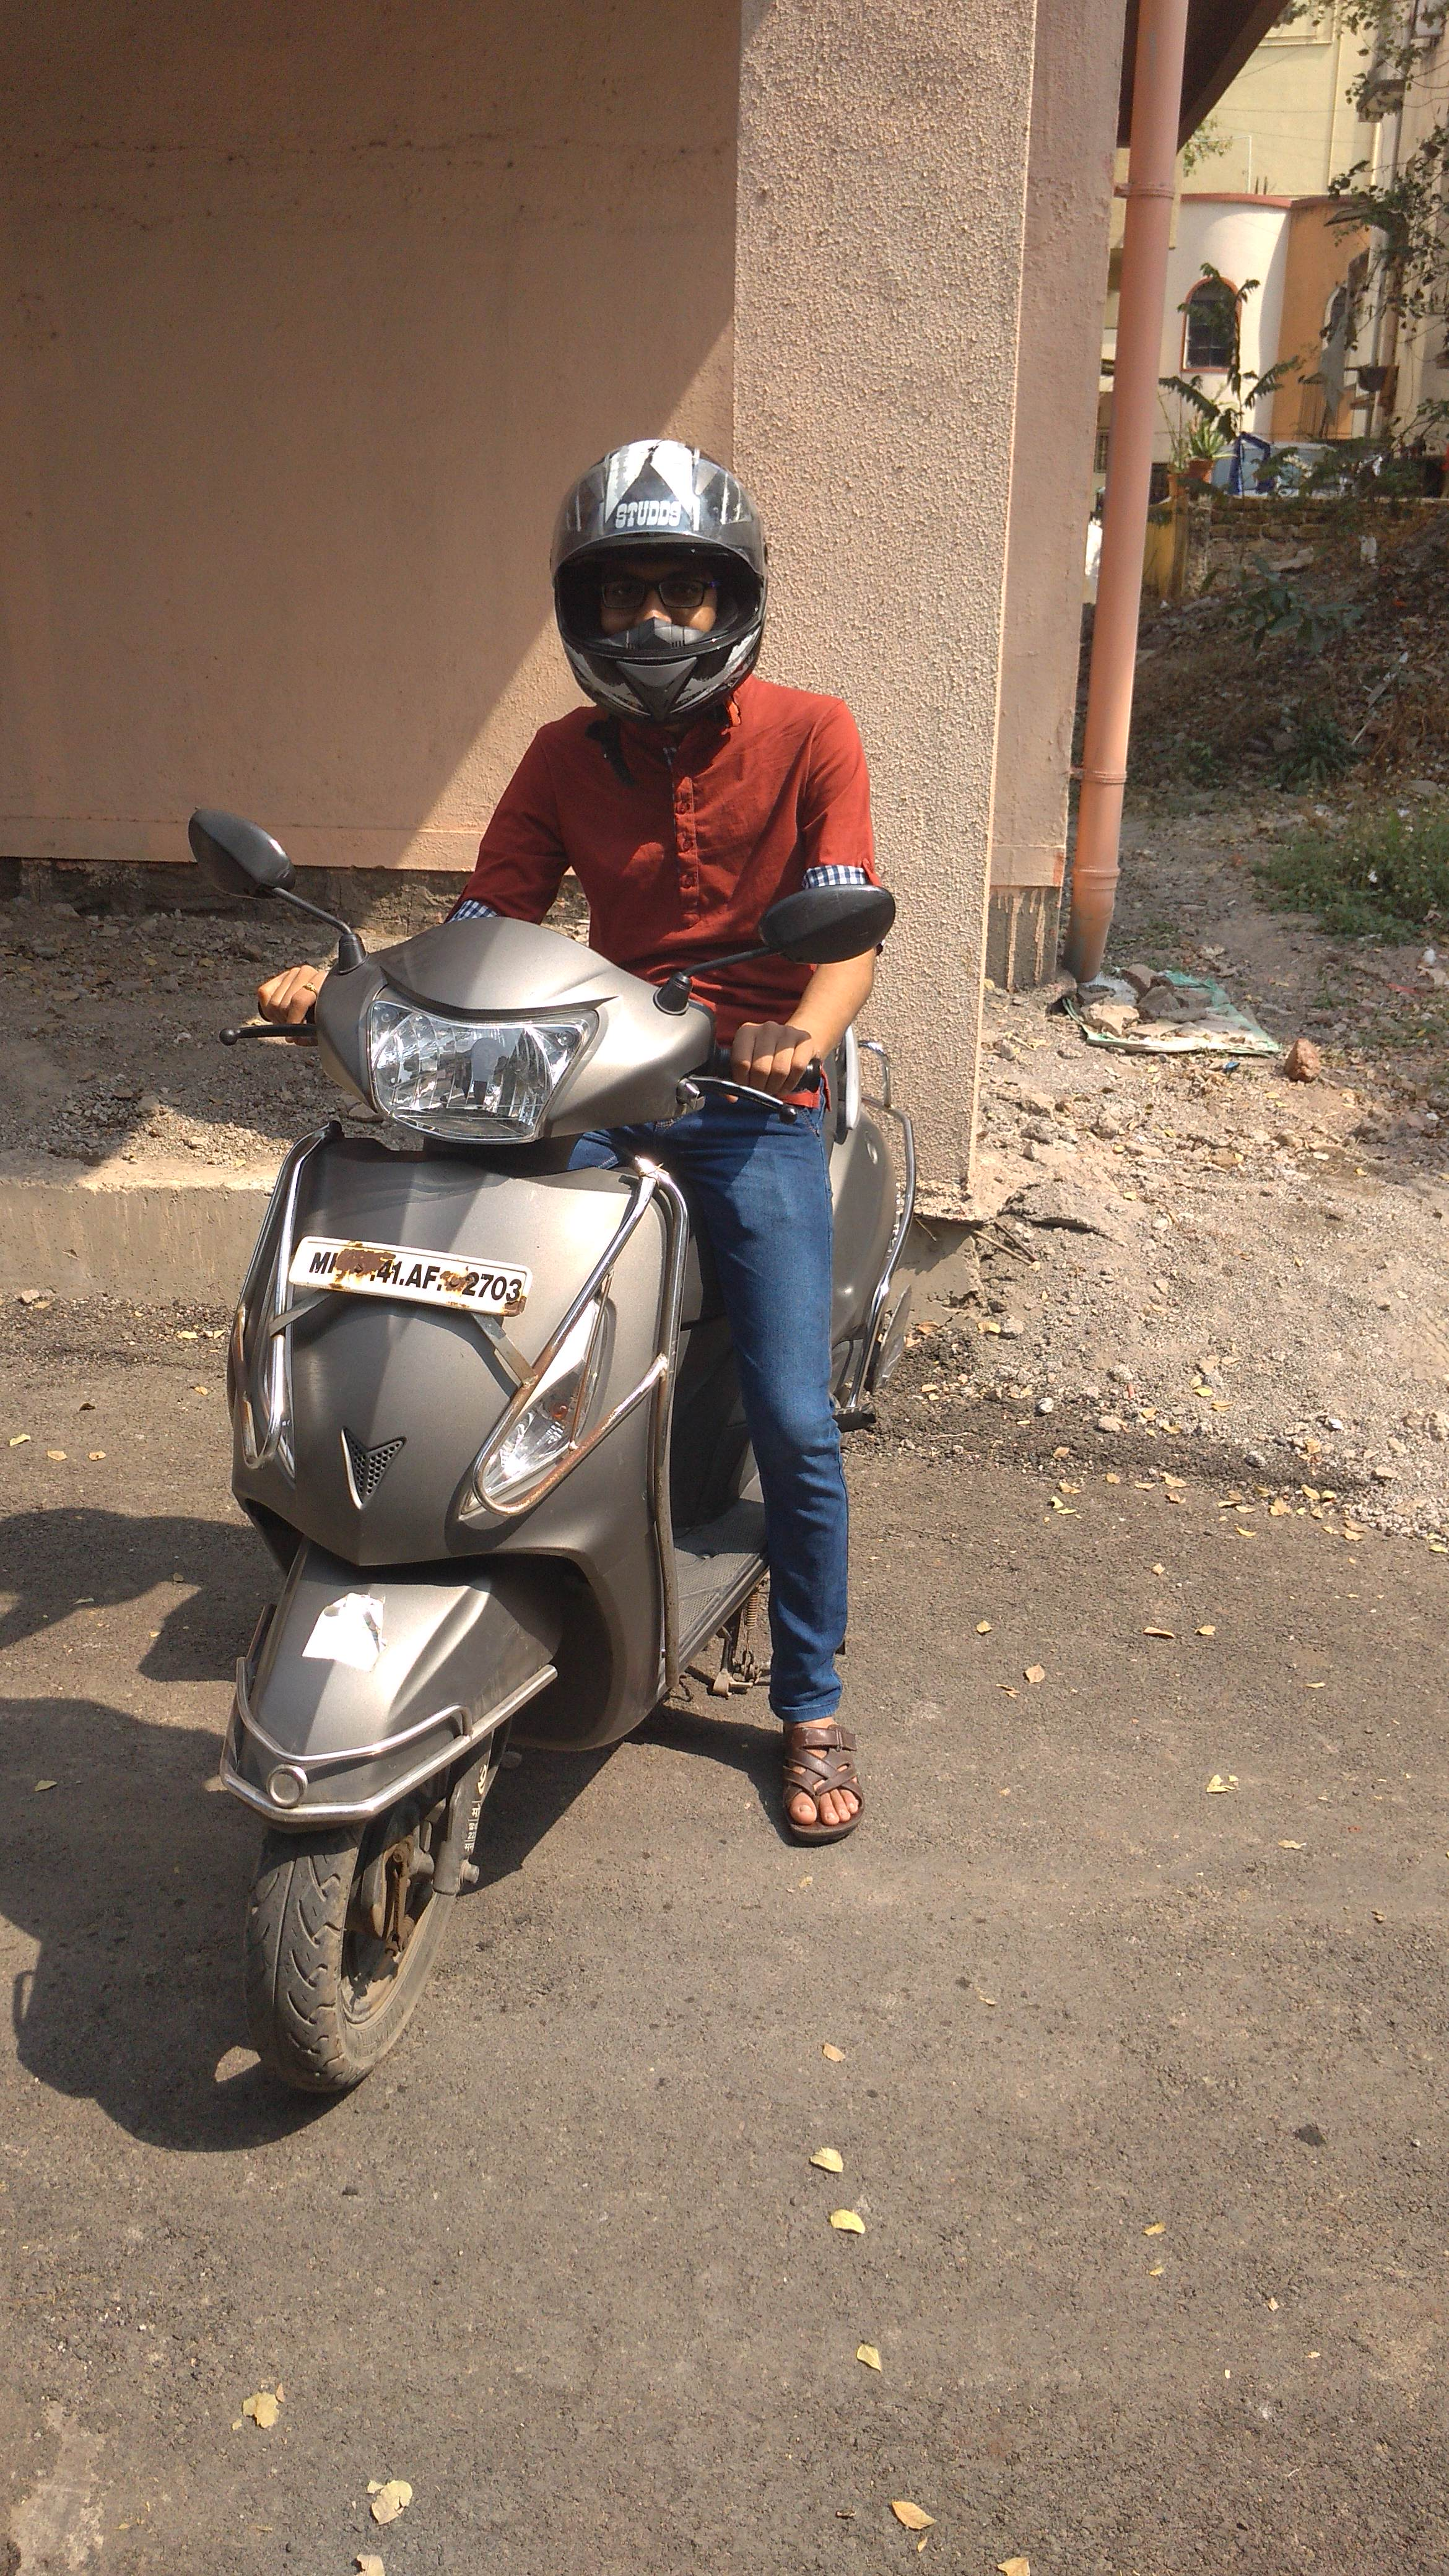helmet: (163, 400, 902, 2121)
